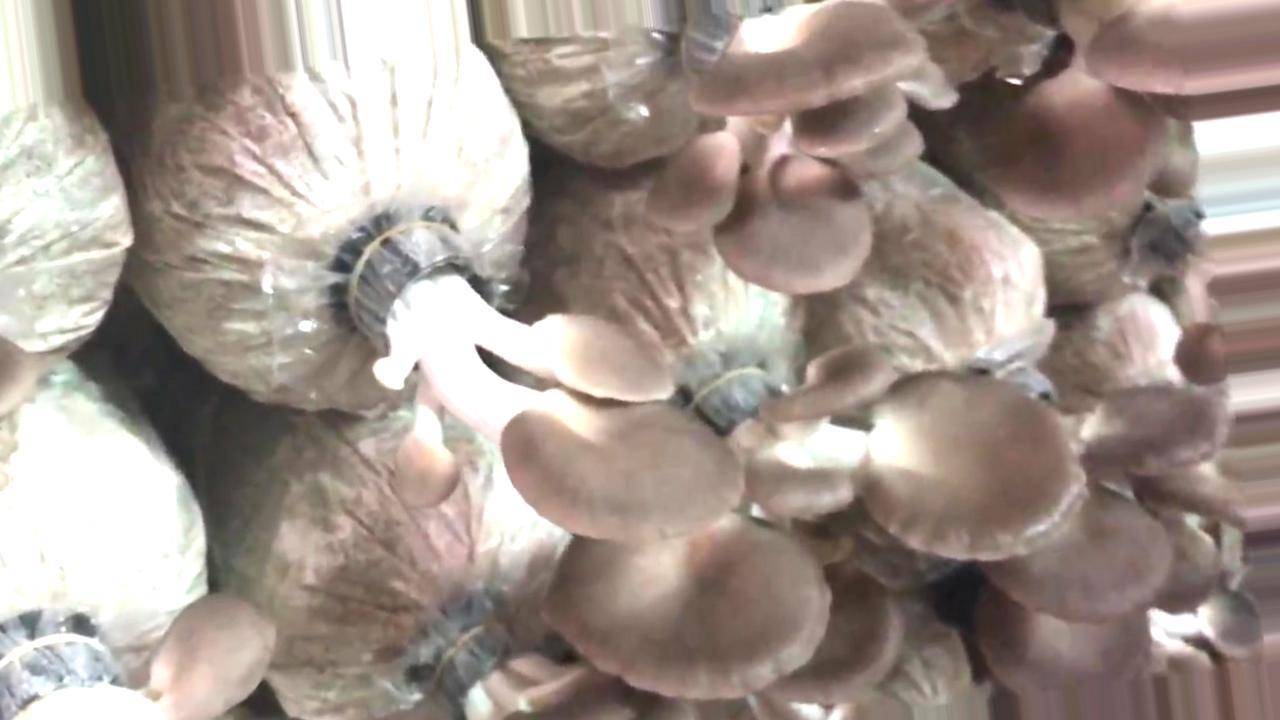nam: (552, 334, 1078, 699), (350, 207, 745, 549), (651, 1, 959, 295)
